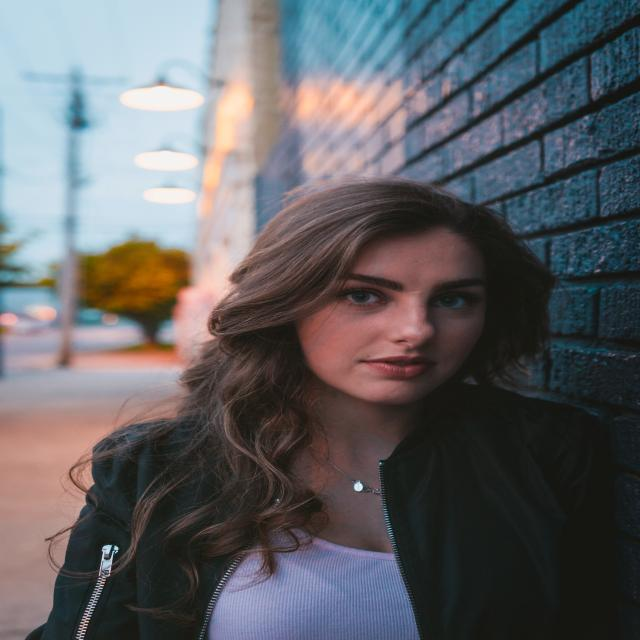adult: (74, 185, 591, 640)
